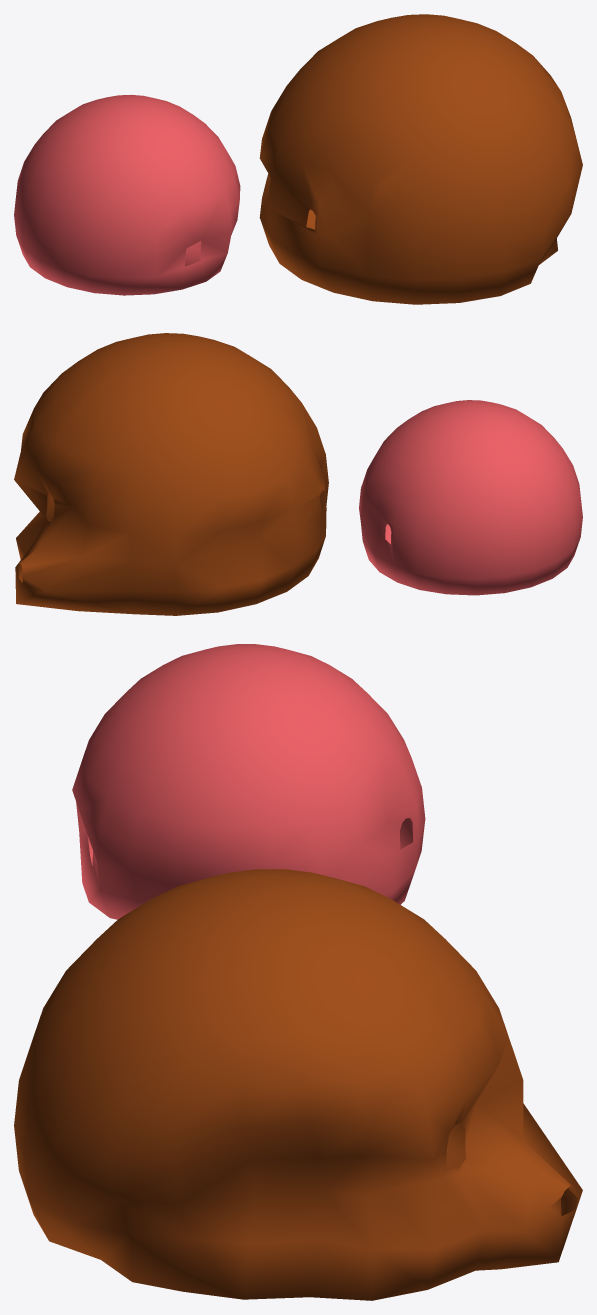
The model's file is skybox.fbx.
3 renders of one model, top to bottom at view 1: azimuth 30°, elevation 25°; view 2: azimuth 150°, elevation 25°; view 3: azimuth 270°, elevation 25°, orthographic. The views are drawn at different scales.
Parts seen in each view (by area): view 1: Sphere, Sphere.001; view 2: Sphere, Sphere.001; view 3: Sphere, Sphere.001.
Boxes of the visible parts, x1=… form: Sphere: x1=259, y1=14, x2=582, y2=304; Sphere.001: x1=14, y1=94, x2=240, y2=295; Sphere: x1=14, y1=333, x2=328, y2=615; Sphere.001: x1=359, y1=400, x2=582, y2=595; Sphere: x1=14, y1=869, x2=582, y2=1300; Sphere.001: x1=72, y1=644, x2=425, y2=919.
Bounding box in the file's own units: 33265 × 13021 × 20467.
